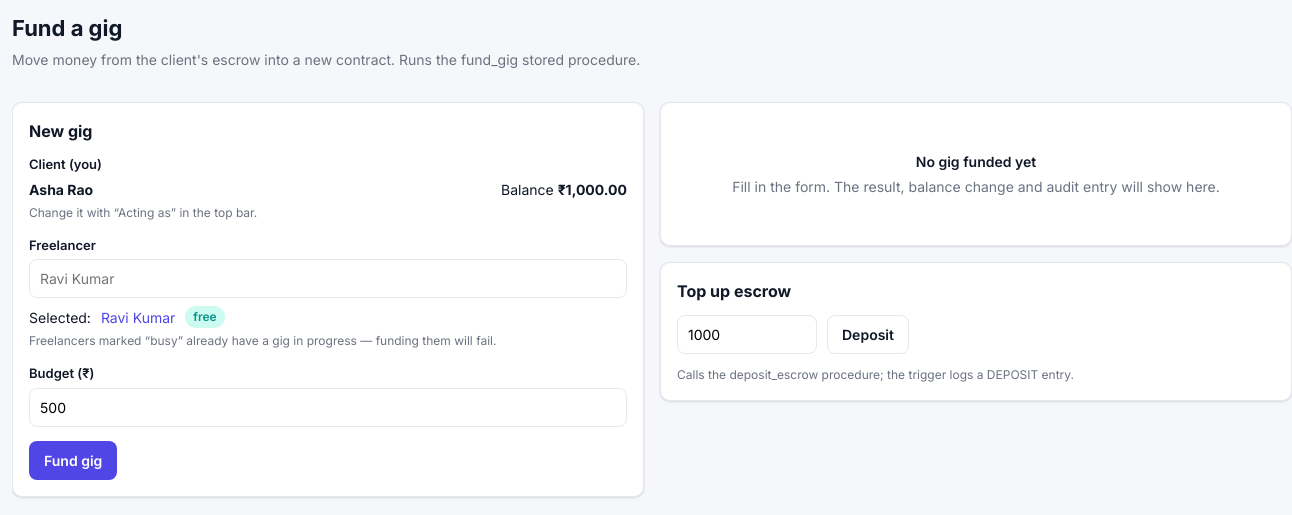
Fund a gig › a busy freelancer (partial unique index) shows a friendly explanation
Check: the link "Ravi Kumar" is shown, box [101,306,175,328]
Replace the text in the number field named "Budget" with "100". click: {"x": 328, "y": 407}
box: [29,388,627,426]
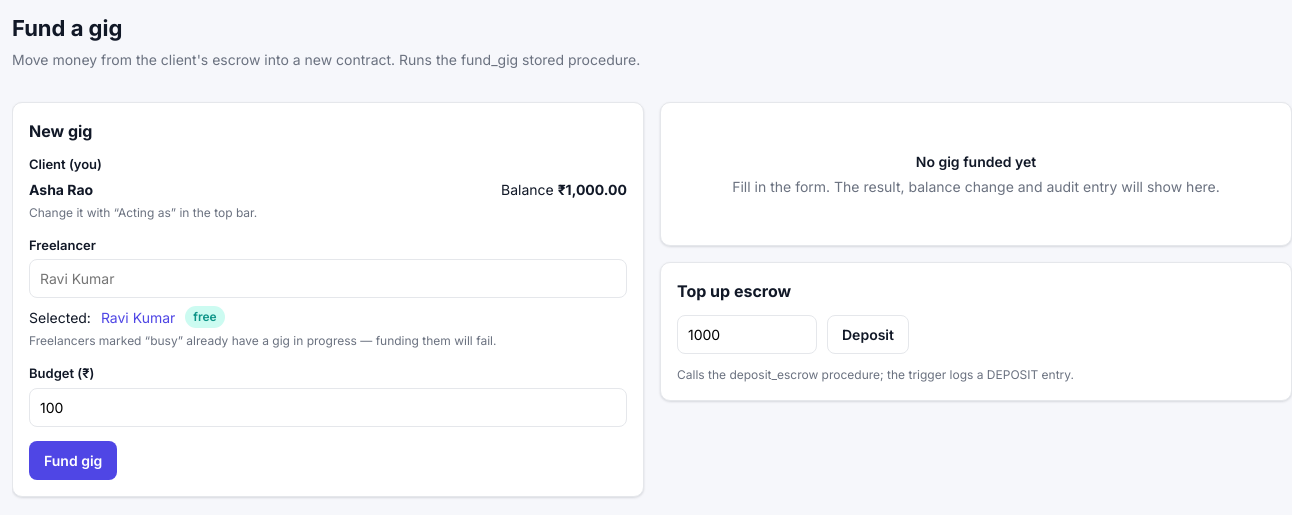
Click the button "Fund gig". click: {"x": 73, "y": 460}
box: [29,440,117,480]
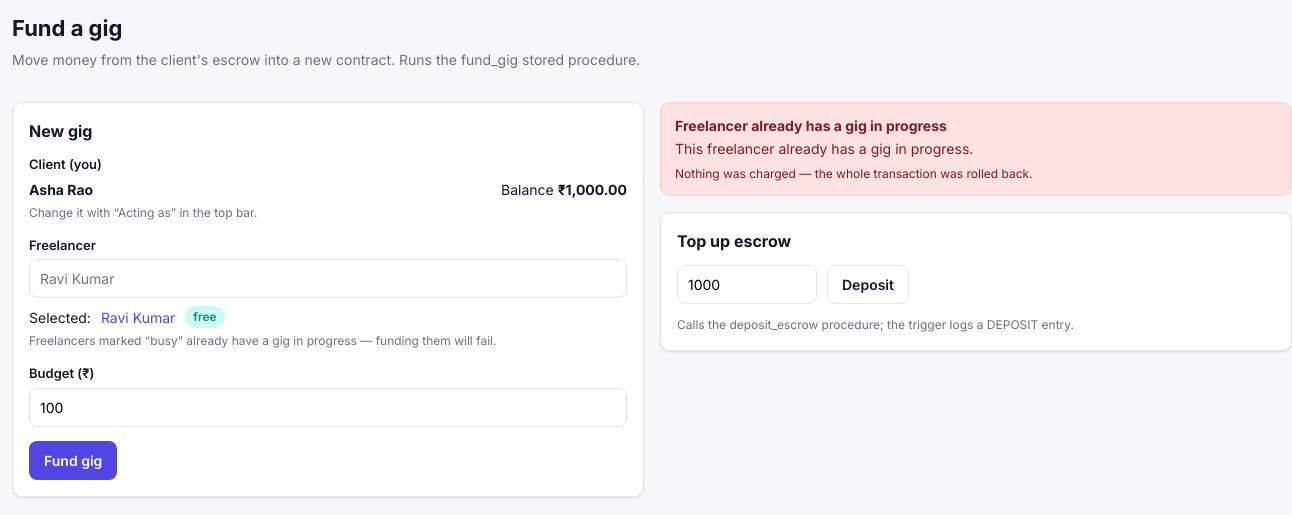
Check: the text "Freelancer already has a gig in progress" is shown, box [675,117,947,134]
